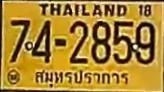2: (69, 20, 87, 63)
4: (30, 19, 50, 62)
5: (113, 20, 134, 64)
7: (10, 19, 30, 62)
8: (91, 20, 110, 63)
9: (135, 21, 156, 63)
SPK: (32, 67, 132, 88)
